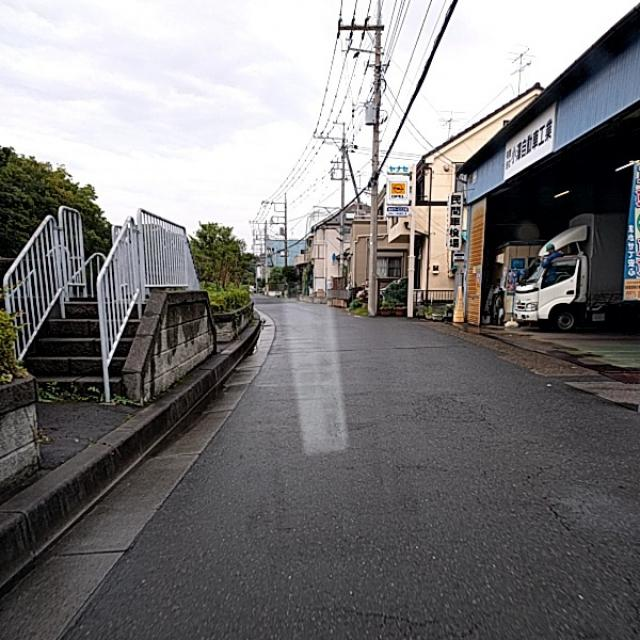pothole: (380, 392, 554, 518)
